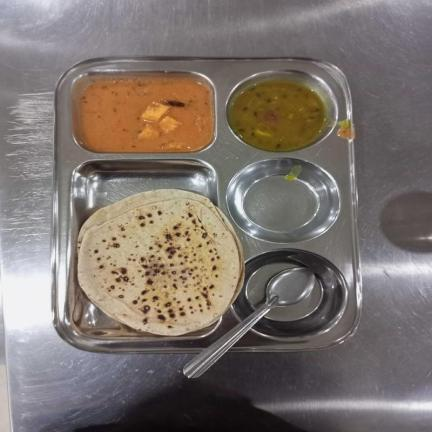Dal: (230, 79, 326, 150)
Paneer: (80, 78, 213, 151)
Plate: (52, 56, 363, 354)
Roti: (77, 189, 244, 336)
